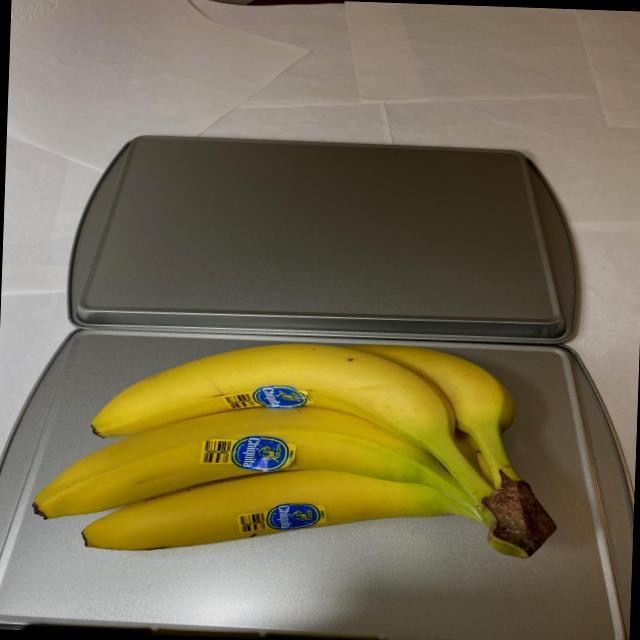banana: (24, 330, 565, 580)
